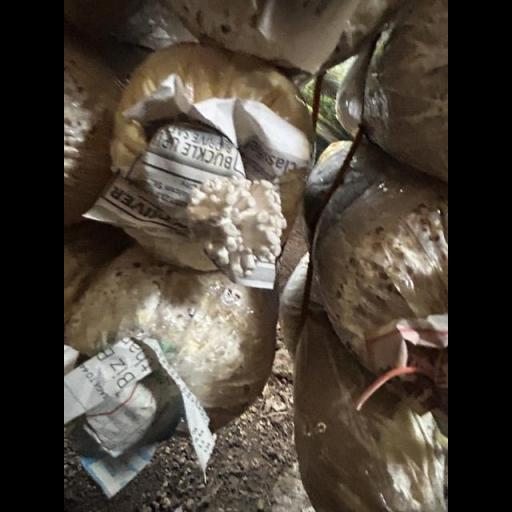White Oyster Mushroom: (177, 168, 297, 286)
